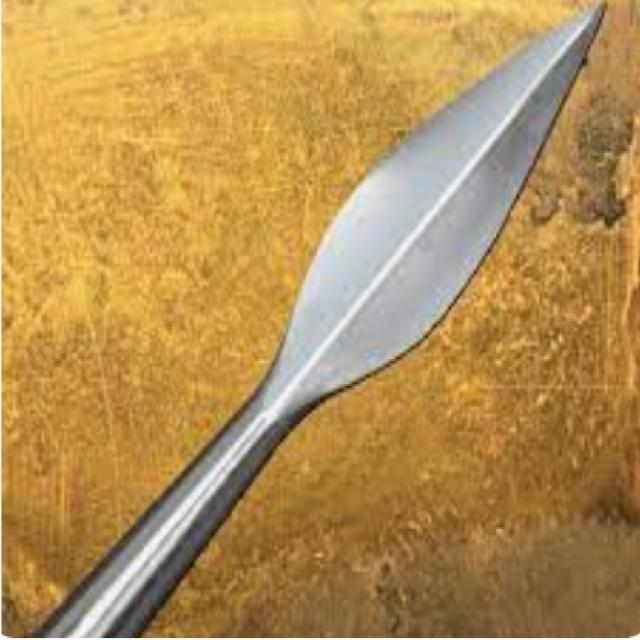spear: (30, 5, 616, 636)
